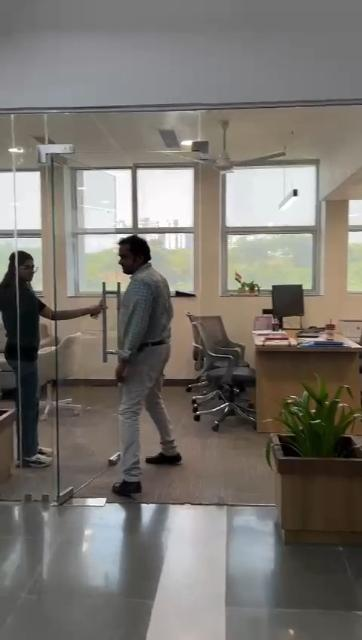floor: (3, 440, 362, 640)
moving-obj: (74, 198, 194, 504), (1, 232, 75, 444)
object: (254, 387, 362, 543), (182, 298, 248, 428), (272, 282, 314, 328)
